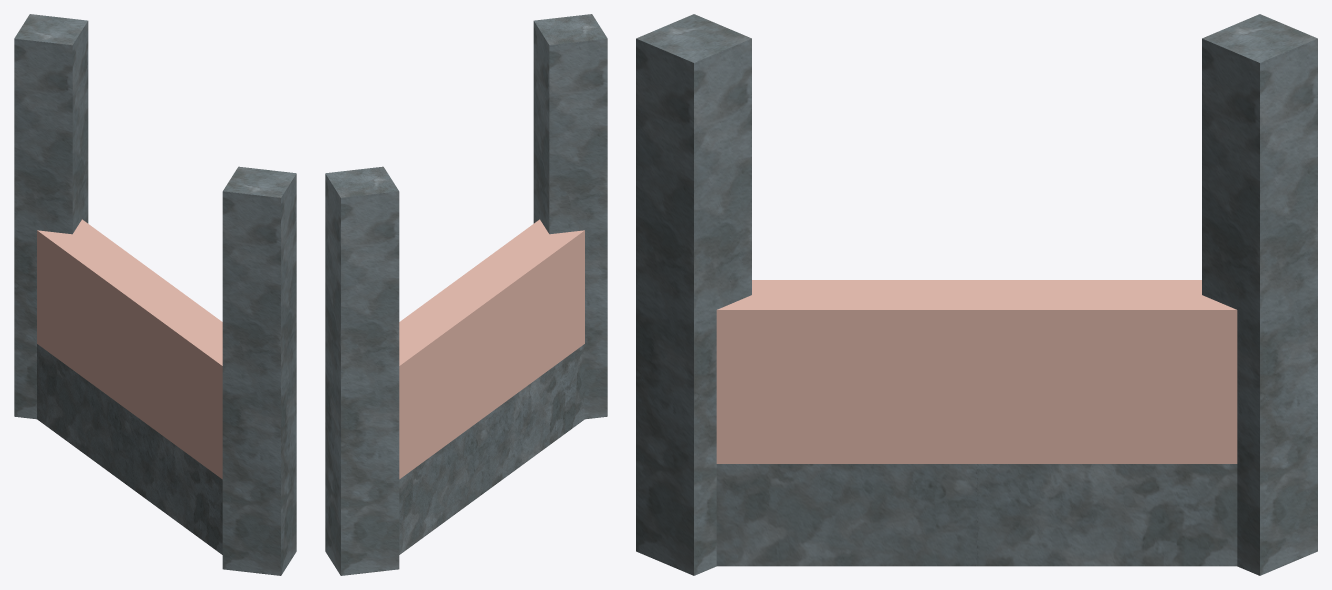
File: halfwallPosts.fbx
The picture shows the model from 3 angles, left to right: view 1: azimuth 30°, elevation 25°; view 2: azimuth 150°, elevation 25°; view 3: azimuth 270°, elevation 25°; orthographic projection. The views are drawn at different scales.
Parts seen in each view (by area): view 1: wall_edgesHalfOpen; view 2: wall_edgesHalfOpen; view 3: wall_edgesHalfOpen.
Boxes of the visible parts, x1,y1,x2,y2 form: wall_edgesHalfOpen: (14,14,296,575); wall_edgesHalfOpen: (325,14,607,575); wall_edgesHalfOpen: (636,14,1317,575).
Size of the model in its own units: 2.05 by 10 by 12.05.
Materials: 2 (1 with a texture image).
